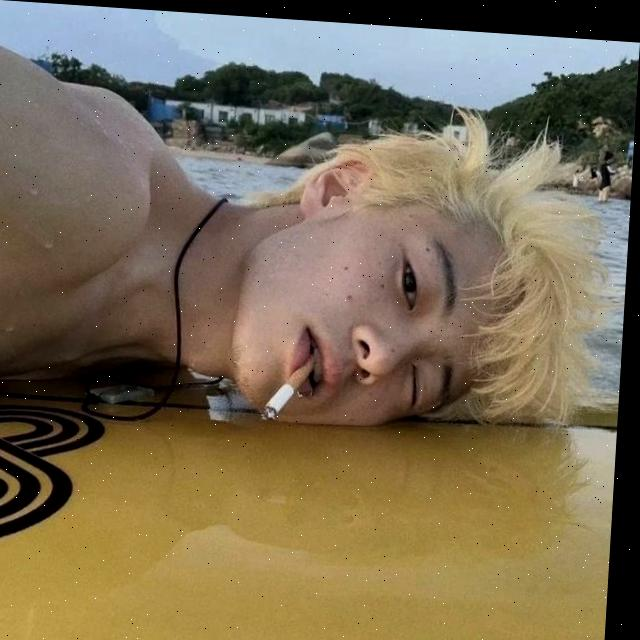cigarette: (267, 340, 321, 419)
